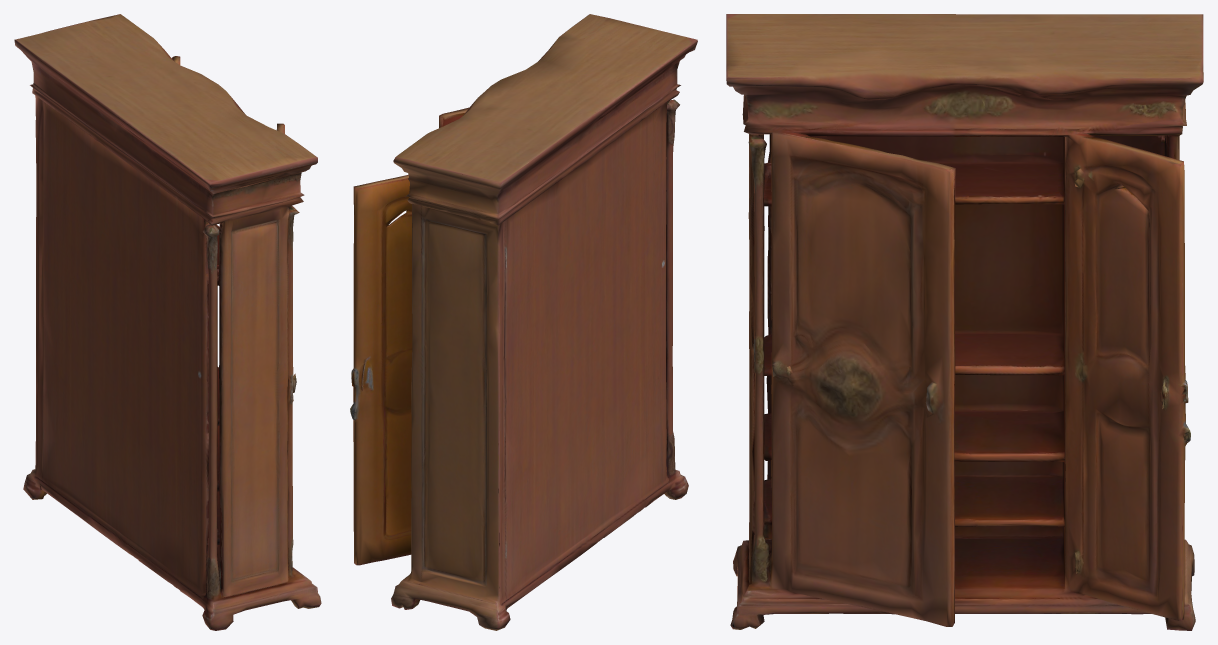
File: armoire.glb
3 views of the same model, side by side, from view 1: azimuth 30°, elevation 25°; view 2: azimuth 150°, elevation 25°; view 3: azimuth 270°, elevation 25° (orthographic). The views are drawn at different scales.
Bounding box in the file's own units: 0.7684 × 2 × 1.57.
Materials: 1 (1 with a texture image).
